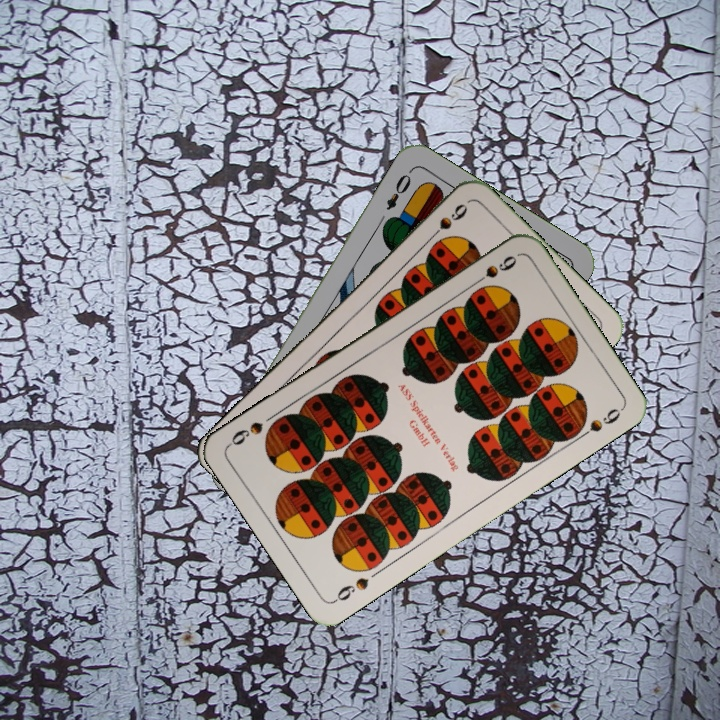EO: (382, 170, 414, 213)
S9: (423, 199, 471, 245), (467, 251, 520, 290), (329, 573, 372, 605)
